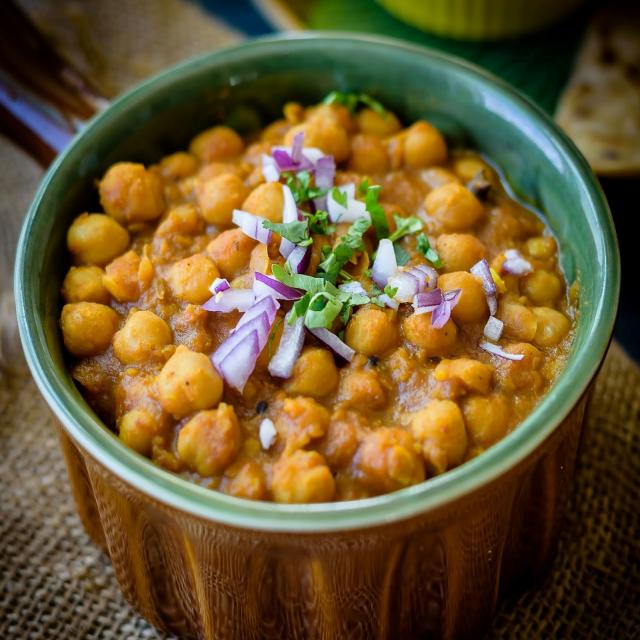Chole: (62, 92, 570, 501)
